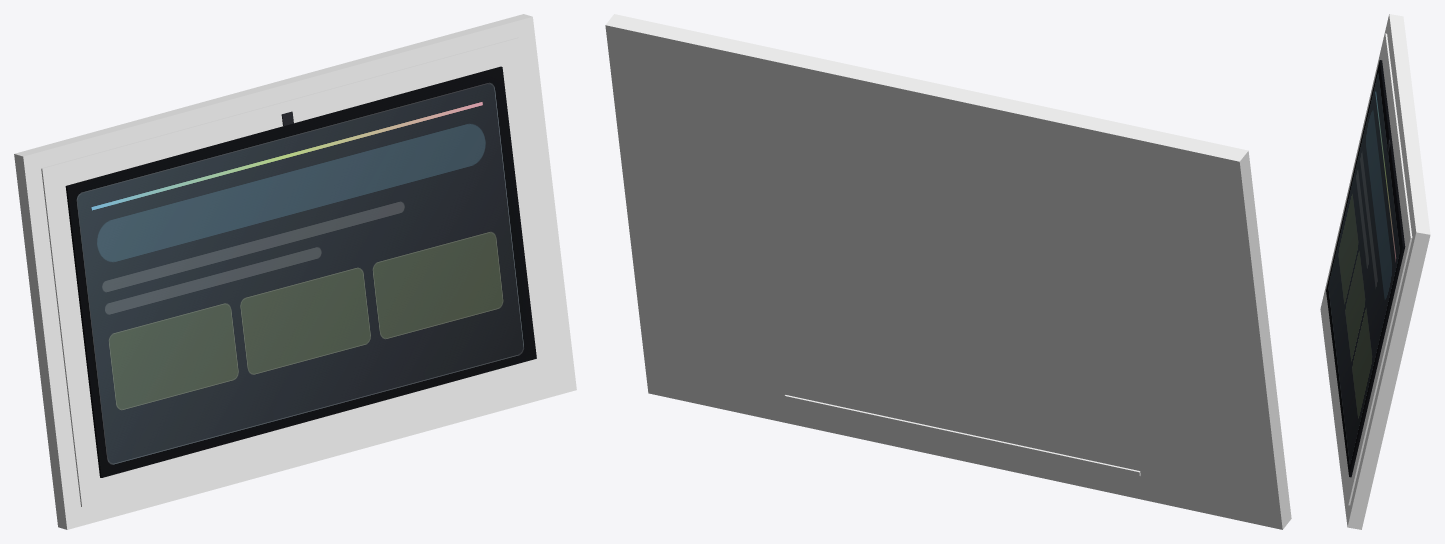
The model's file is tablet.glb.
3 views of the same model, side by side, from view 1: azimuth 30°, elevation 25°; view 2: azimuth 150°, elevation 25°; view 3: azimuth 270°, elevation 25° (orthographic). The views are drawn at different scales.
Parts seen in each view (by area): view 1: large dark glass tablet screen, thin white professional tablet body, precision silver tablet bevel; view 2: thin white professional tablet body, thin magnetic accessory line; view 3: large dark glass tablet screen, thin white professional tablet body, precision silver tablet bevel.
Part boxes in pixels (x1,y1,x2,y2): large dark glass tablet screen: (65,66,536,477); thin white professional tablet body: (14,14,576,529); precision silver tablet bevel: (41,37,558,506); thin white professional tablet body: (605,14,1291,529); thin magnetic accessory line: (784,395,1140,476); large dark glass tablet screen: (1326,60,1405,477); thin white professional tablet body: (1320,14,1430,529); precision silver tablet bevel: (1323,33,1412,505).
Size of the model in its own units: 2.97 by 1.86 by 0.627.
5 materials, 1 textured.
